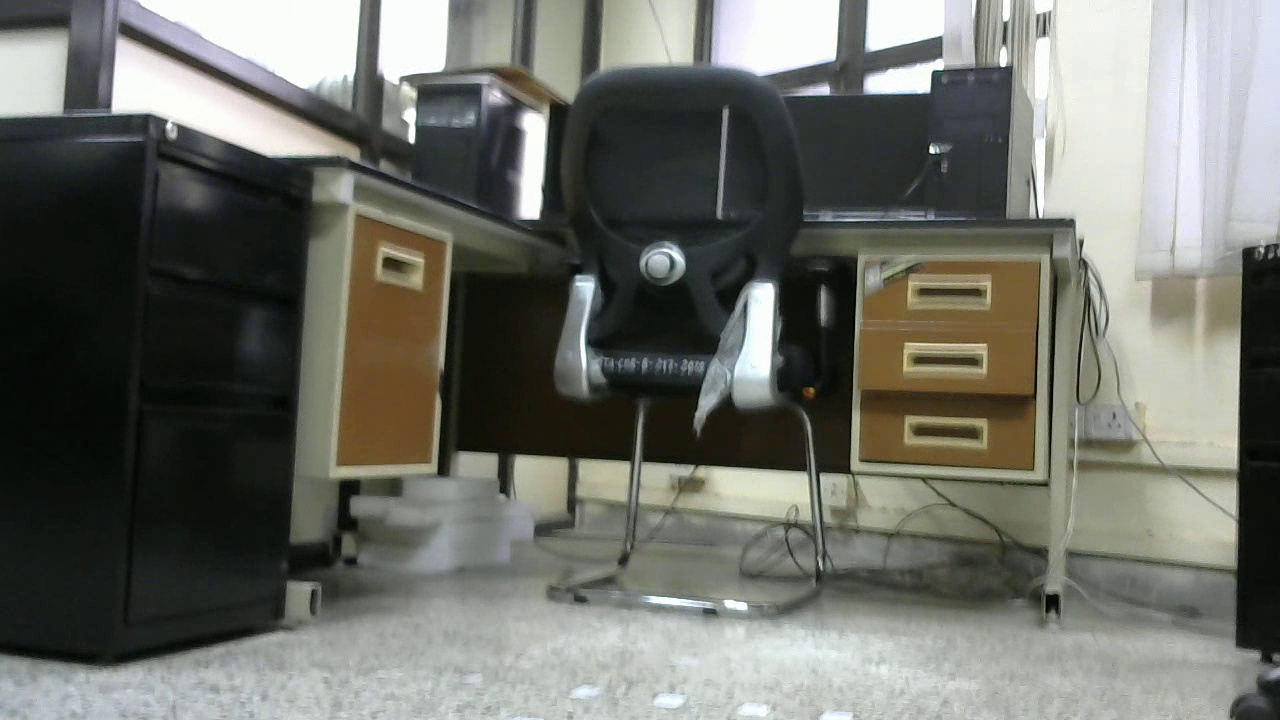chair: (545, 65, 825, 619)
